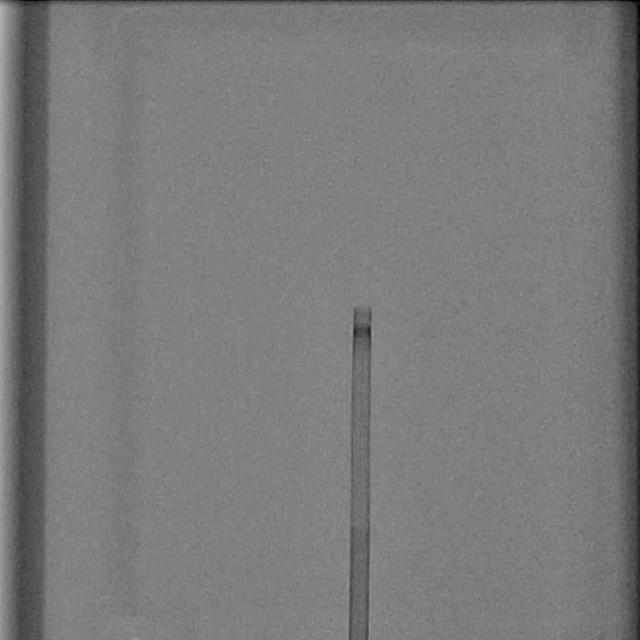bend: (351, 512, 368, 531)
entry: (349, 636, 368, 640)
marker: (353, 326, 371, 338)
tip: (354, 305, 371, 314)
